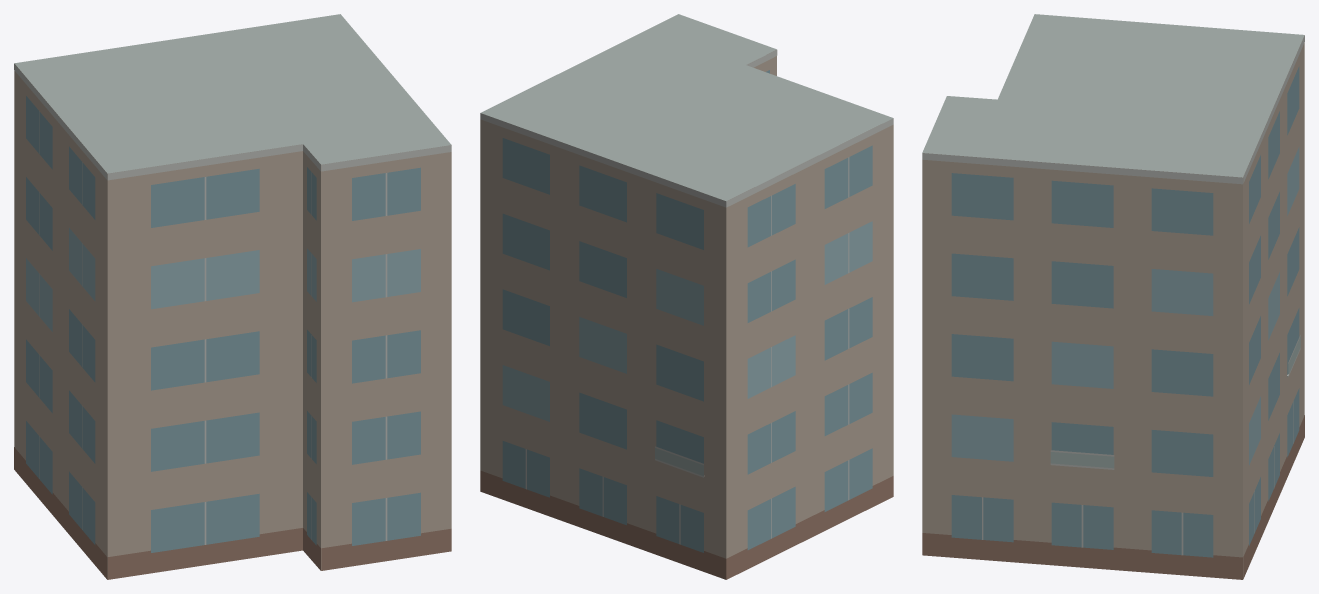
Rendered from survey-upis-33027125.glb.
The picture shows the model from 3 angles, left to right: view 1: azimuth 30°, elevation 25°; view 2: azimuth 150°, elevation 25°; view 3: azimuth 270°, elevation 25°; orthographic projection. The views are drawn at different scales.
Visible parts, largest first — view 1: survey-upis-33027125.tmp; view 2: survey-upis-33027125.tmp; view 3: survey-upis-33027125.tmp.
Part boxes in pixels (<box>): survey-upis-33027125.tmp: <box>14,14,451,579</box>; survey-upis-33027125.tmp: <box>480,14,893,579</box>; survey-upis-33027125.tmp: <box>922,14,1304,579</box>.
Size of the model in its own units: 12.6 by 14.45 by 12.46.
